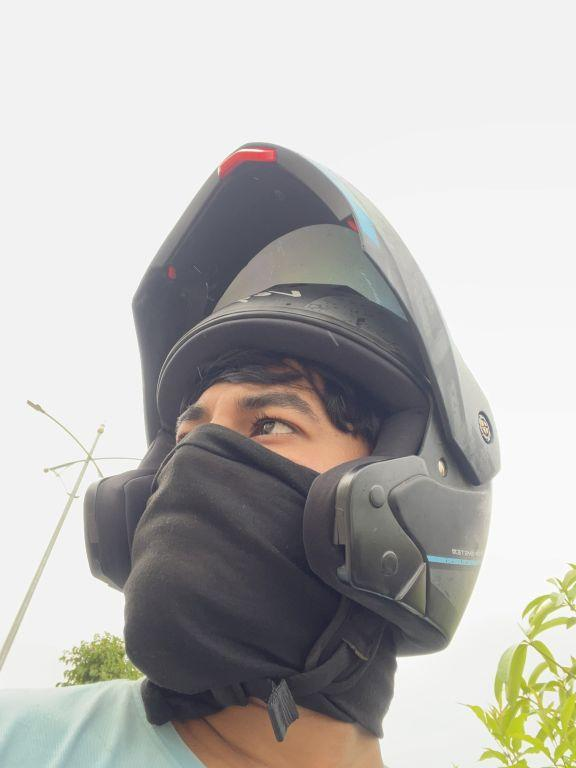helmet: (72, 119, 505, 735)
